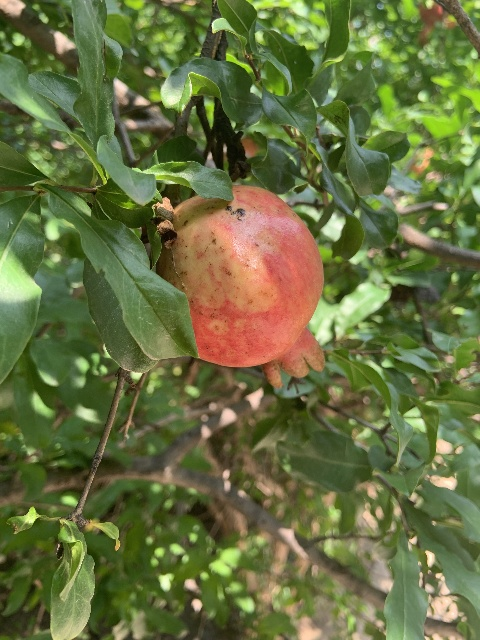ripe: (154, 184, 326, 387)
